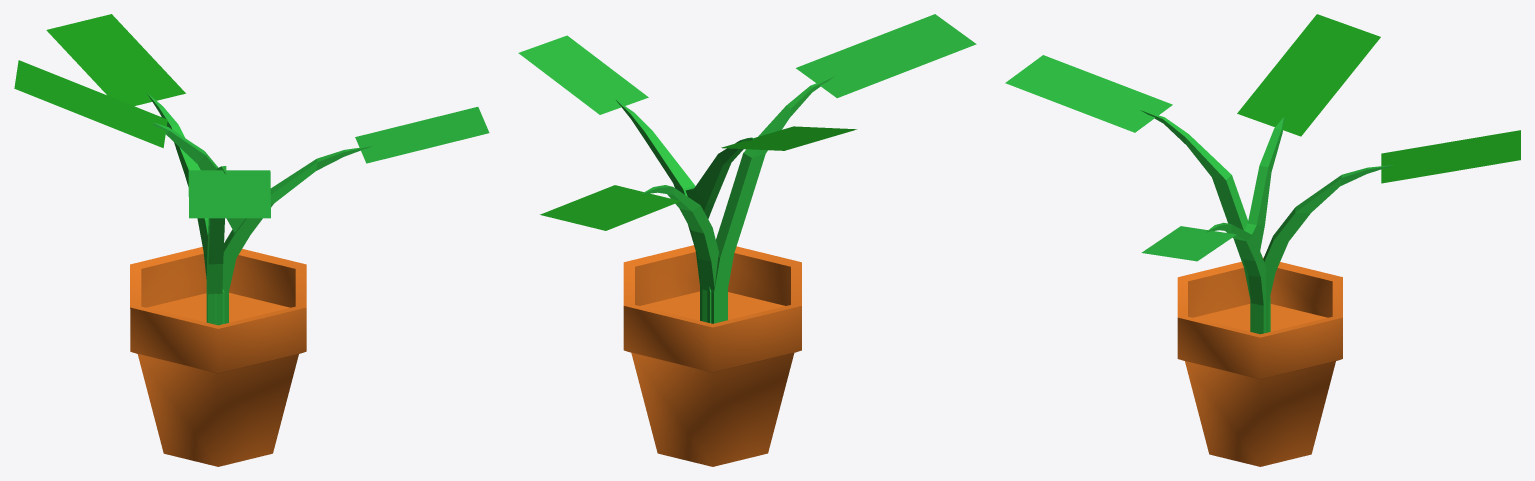
File: planta_petita.FBX
The picture shows the model from 3 angles, left to right: view 1: azimuth 30°, elevation 25°; view 2: azimuth 150°, elevation 25°; view 3: azimuth 270°, elevation 25°; orthographic projection. The views are drawn at different scales.
Parts seen in each view (by area): view 1: Cylinder002; view 2: Cylinder002; view 3: Cylinder002.
Boxes of the visible parts, x1,y1,x2,y2 form: Cylinder002: (14, 14, 489, 466); Cylinder002: (518, 14, 976, 466); Cylinder002: (1005, 14, 1520, 466).
Size of the model in its own units: 7.23 by 6.42 by 8.62.
